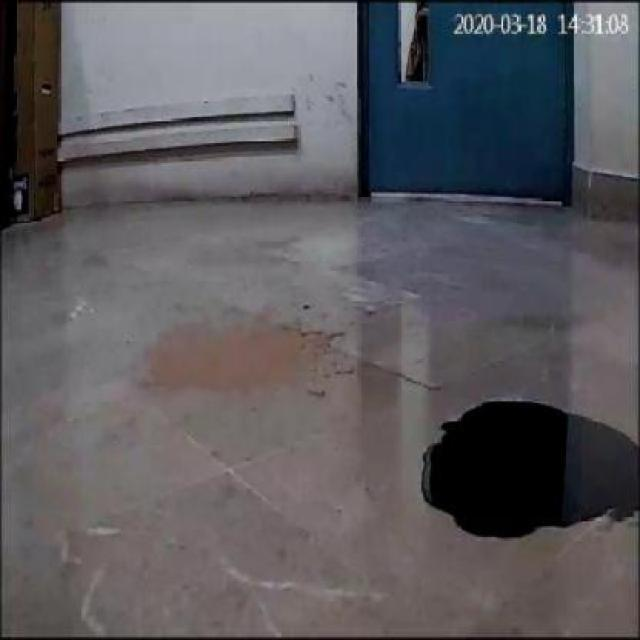spillage: (419, 401, 636, 541)
